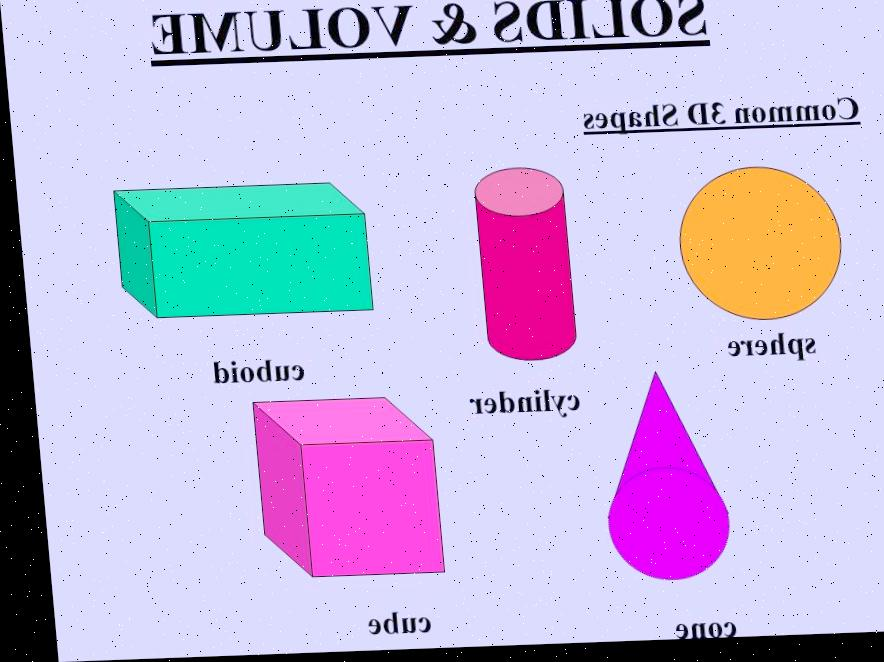cube: (242, 398, 433, 582)
